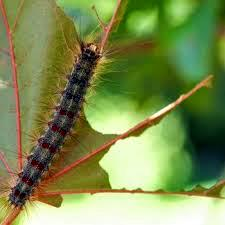Caterpillar: (11, 40, 100, 211)
